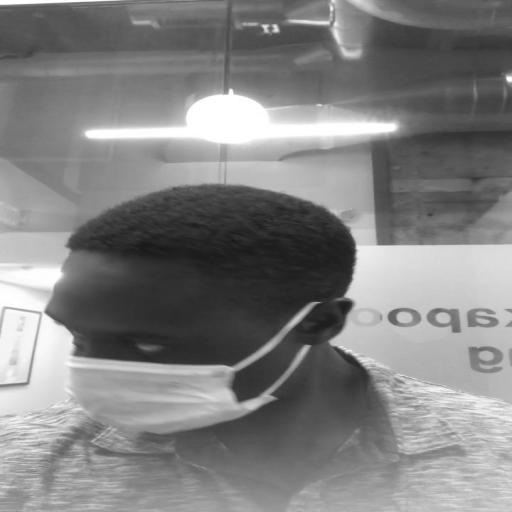mask: (49, 255, 336, 433)
